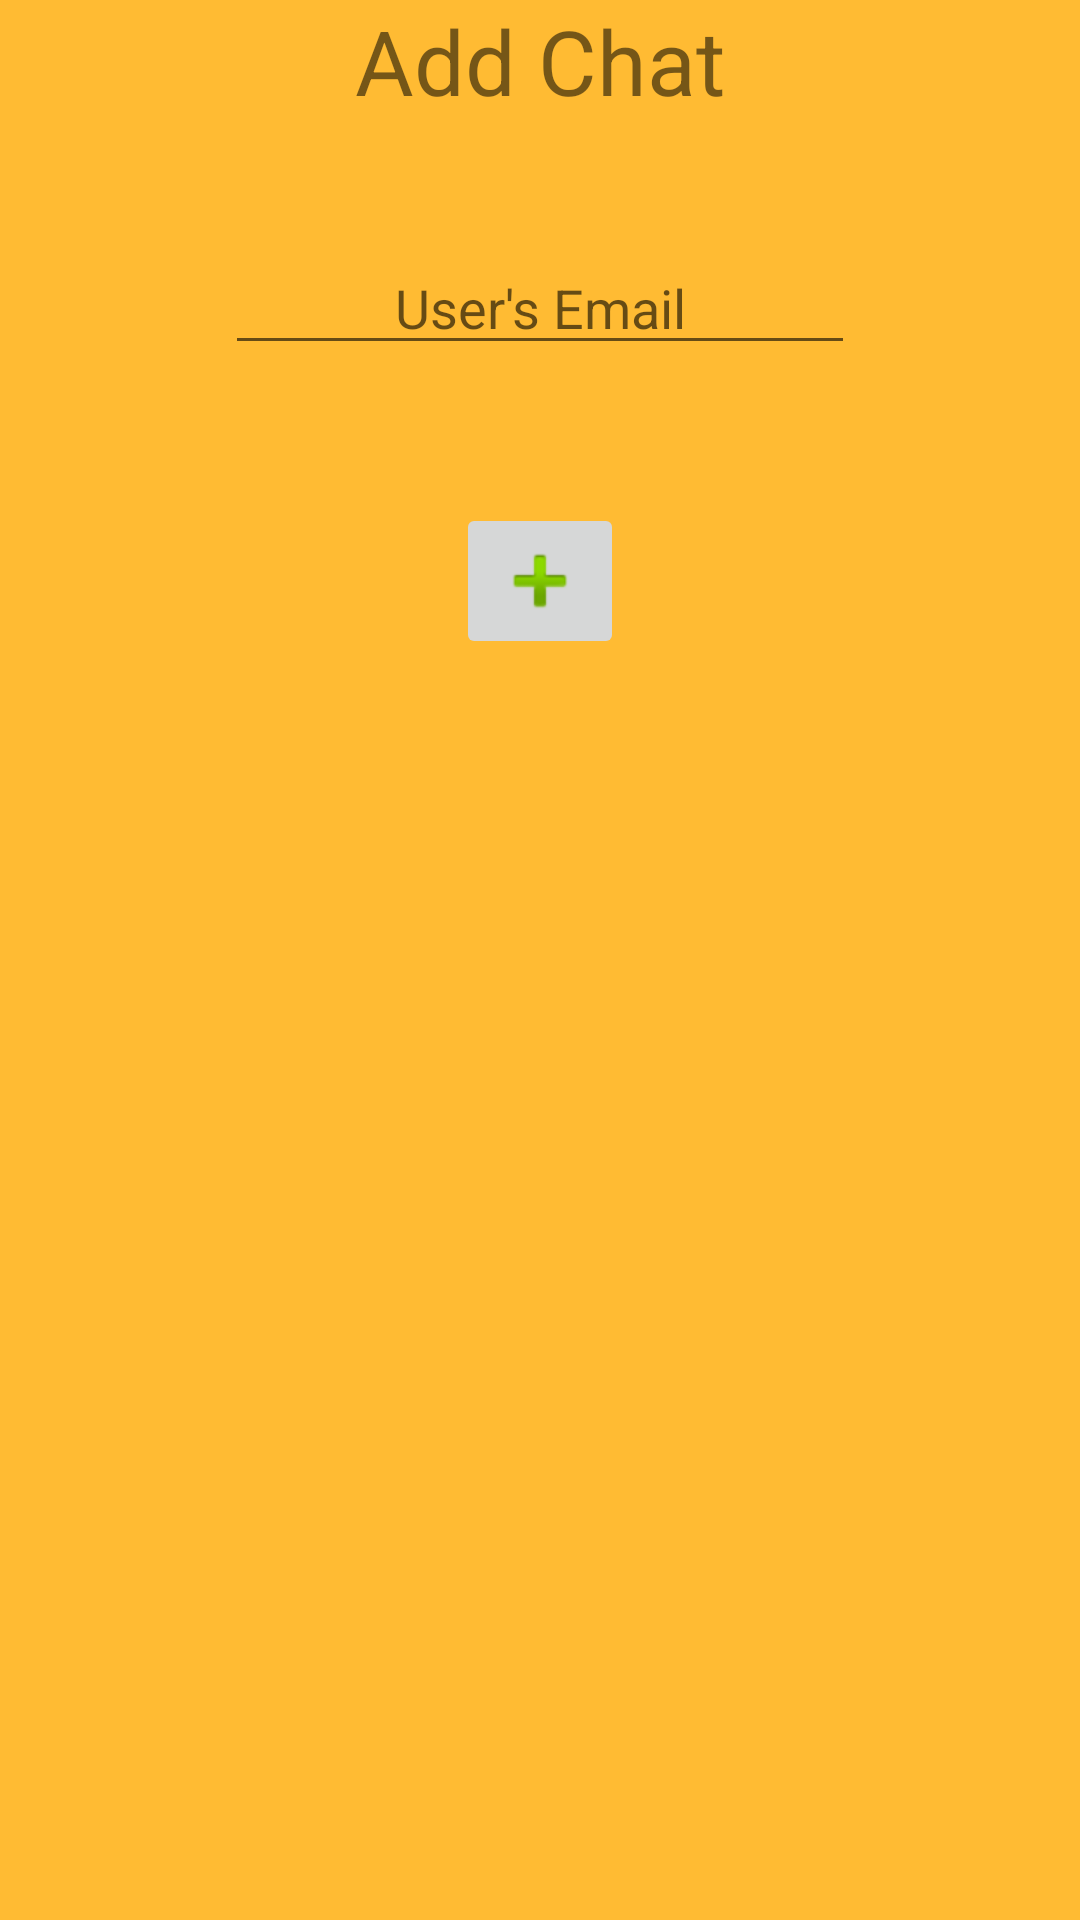

Icons on this 1080 × 1920 Android screen, each with the point to tap as (x,y):
add: (540,581)
